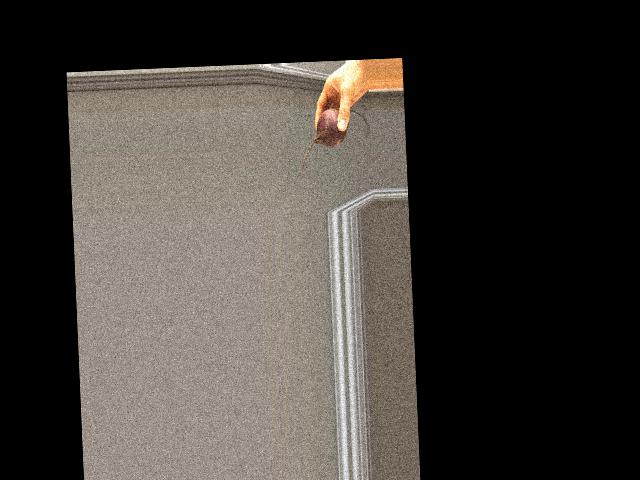beet: (300, 107, 371, 172)
